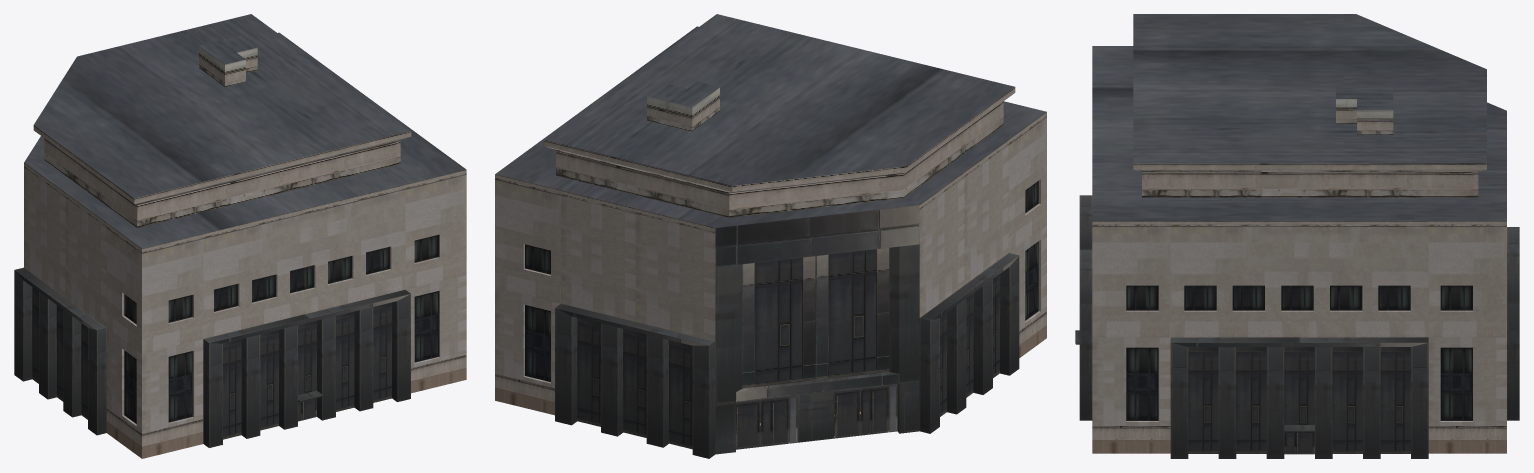
File: tutorial_building12.gltf
3 views of the same model, side by side, from view 1: azimuth 30°, elevation 25°; view 2: azimuth 150°, elevation 25°; view 3: azimuth 270°, elevation 25° (orthographic). The views are drawn at different scales.
Visible parts, largest first — view 1: building12; view 2: building12; view 3: building12.
Part boxes in pixels (box(x1,y1,x2,y2)): building12: box(14, 14, 466, 458); building12: box(495, 14, 1046, 458); building12: box(1075, 14, 1519, 458).
Bounding box in the file's own units: 28.14 × 20.62 × 28.14.
Materials: 2 (2 with a texture image).
